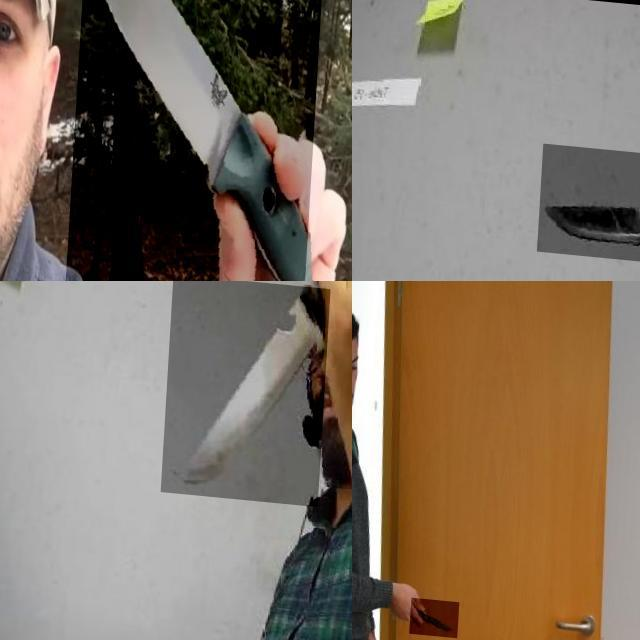-: (70, 0, 328, 281), (166, 281, 333, 499), (539, 138, 640, 259), (415, 590, 464, 630)
